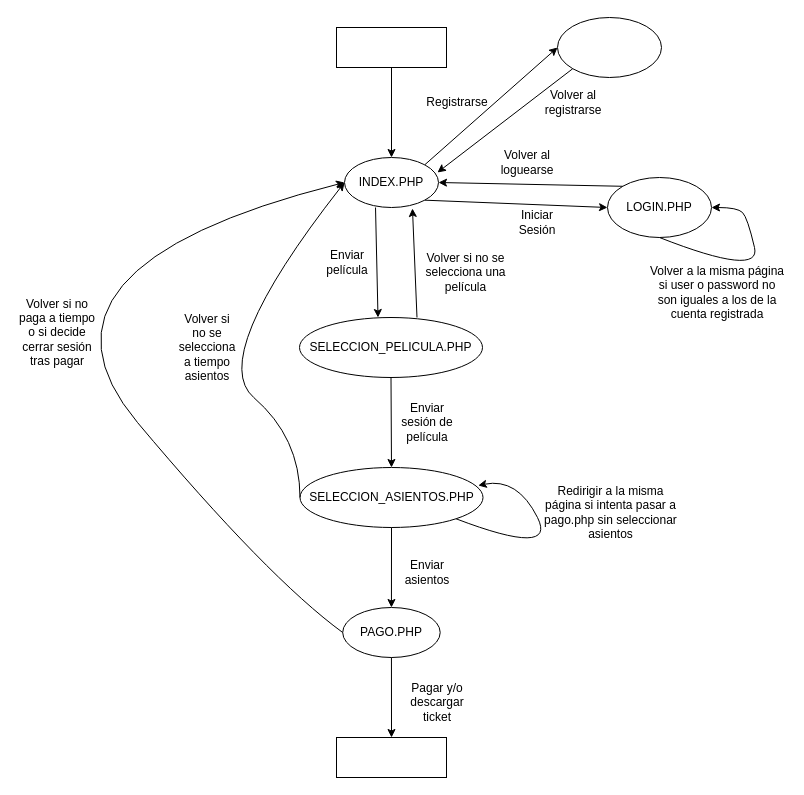
This 804x795 diagram has some shape labels left out. The centre of each missing label's shape, as x and y in pixels:
"FIN" goes at (x=391, y=757).
"INICIO" goes at (x=391, y=47).
"REGISTRO.PHP" goes at (x=609, y=47).
